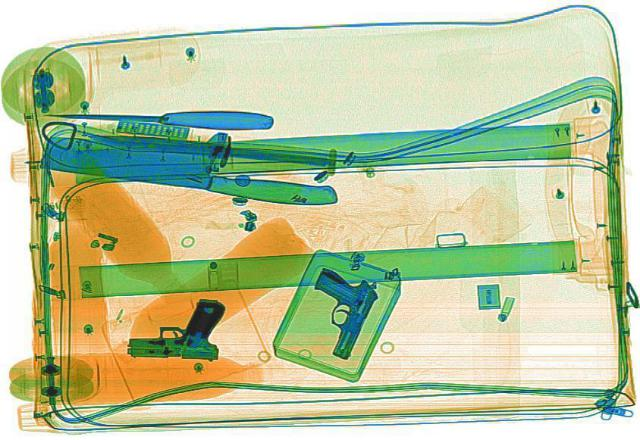Gun: (282, 265, 386, 358), (126, 296, 224, 357)
Knife: (38, 131, 346, 210), (81, 125, 325, 171), (42, 103, 272, 128)
